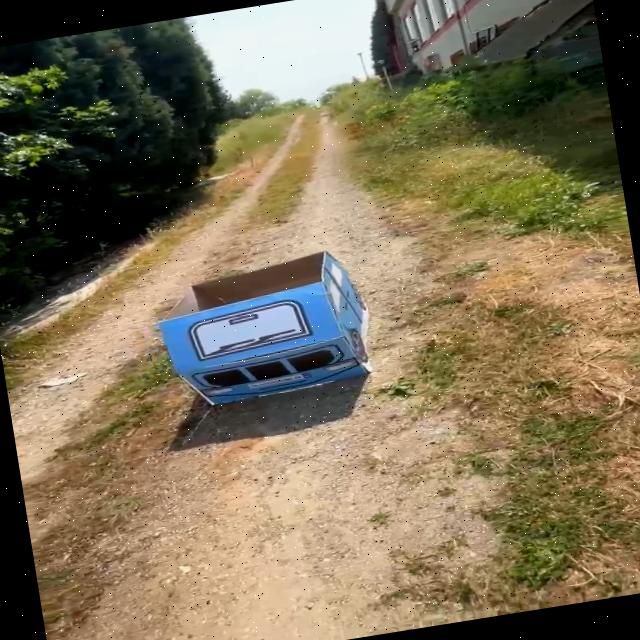blue_car: (136, 222, 426, 436)
